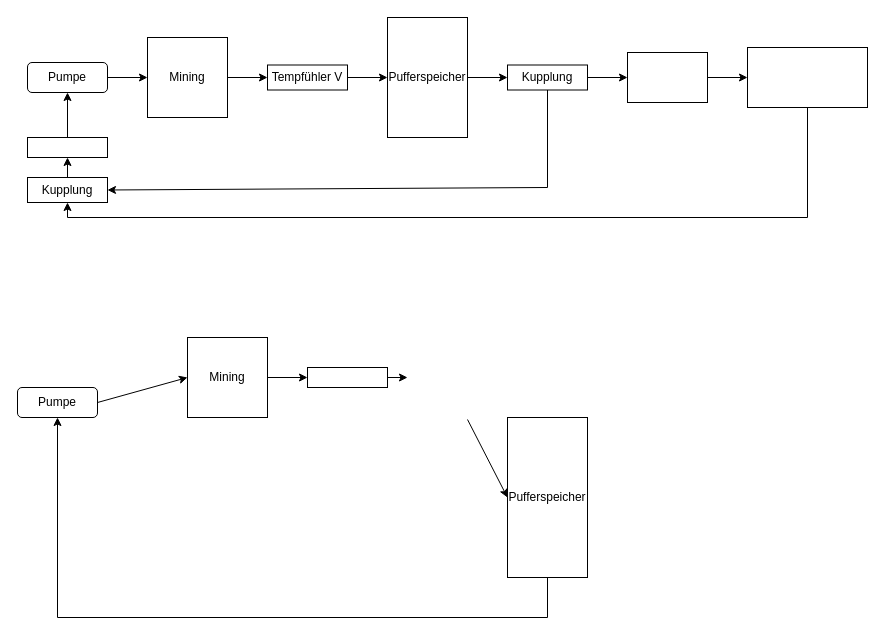
Some shapes in this 885 by 643 pixel diagram are drawn without their labels. Each missing label, with the centre of its shape:
Kühler & Lüfter: point (807, 77)
Magnetventil definitiv: point (667, 77)
Tempfühler: point (347, 377)
Tempfühler N: point (67, 147)
